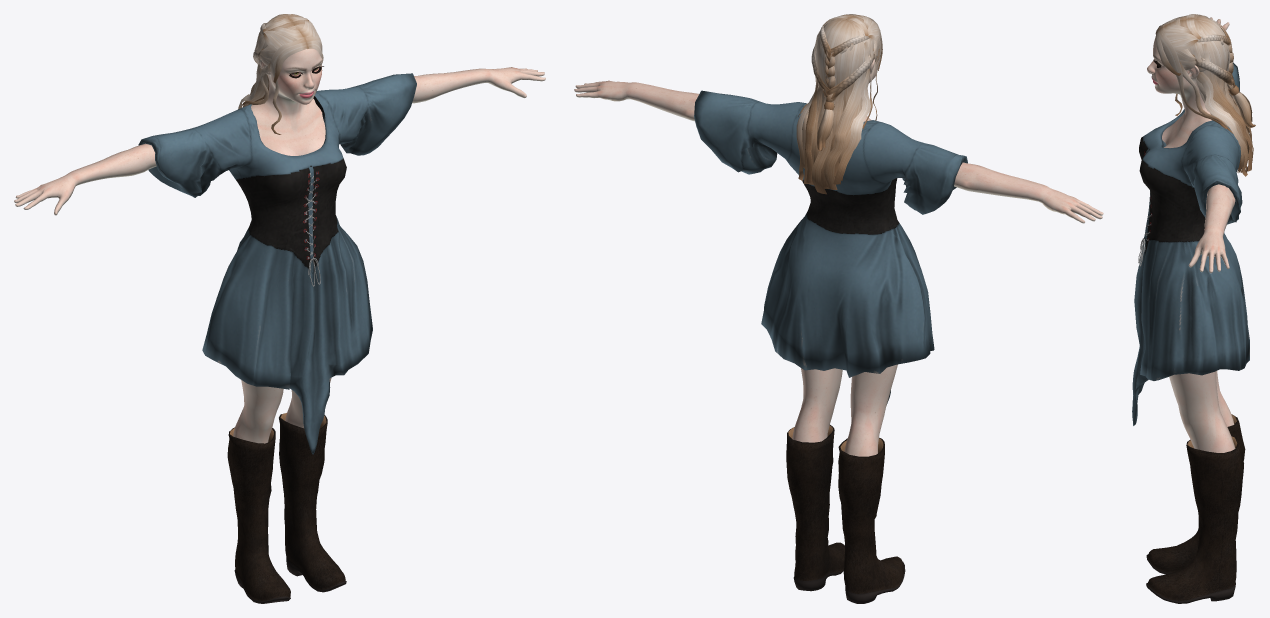
File: Lyra.obj
3 views of the same model, side by side, from view 1: azimuth 30°, elevation 25°; view 2: azimuth 150°, elevation 25°; view 3: azimuth 270°, elevation 25° (orthographic).
Visible parts, largest first — view 1: Tops, Body, Shoes, Hair; view 2: Tops, Shoes, Body, Hair; view 3: Tops, Shoes, Body, Hair.
Boxes of the visible parts, bbox=[...] form: Tops: bbox=[138, 73, 416, 454]; Body: bbox=[14, 48, 545, 443]; Shoes: bbox=[227, 413, 346, 603]; Hair: bbox=[238, 14, 323, 134]; Tops: bbox=[694, 90, 967, 403]; Shoes: bbox=[786, 425, 905, 603]; Body: bbox=[574, 59, 1103, 456]; Hair: bbox=[796, 14, 882, 194]; Tops: bbox=[1132, 62, 1249, 425]; Shoes: bbox=[1146, 414, 1245, 603]; Body: bbox=[1147, 17, 1235, 452]; Hair: bbox=[1155, 14, 1255, 176].
Size of the model in its own units: 169 by 173 by 34.34.
4 materials, 4 textured.
